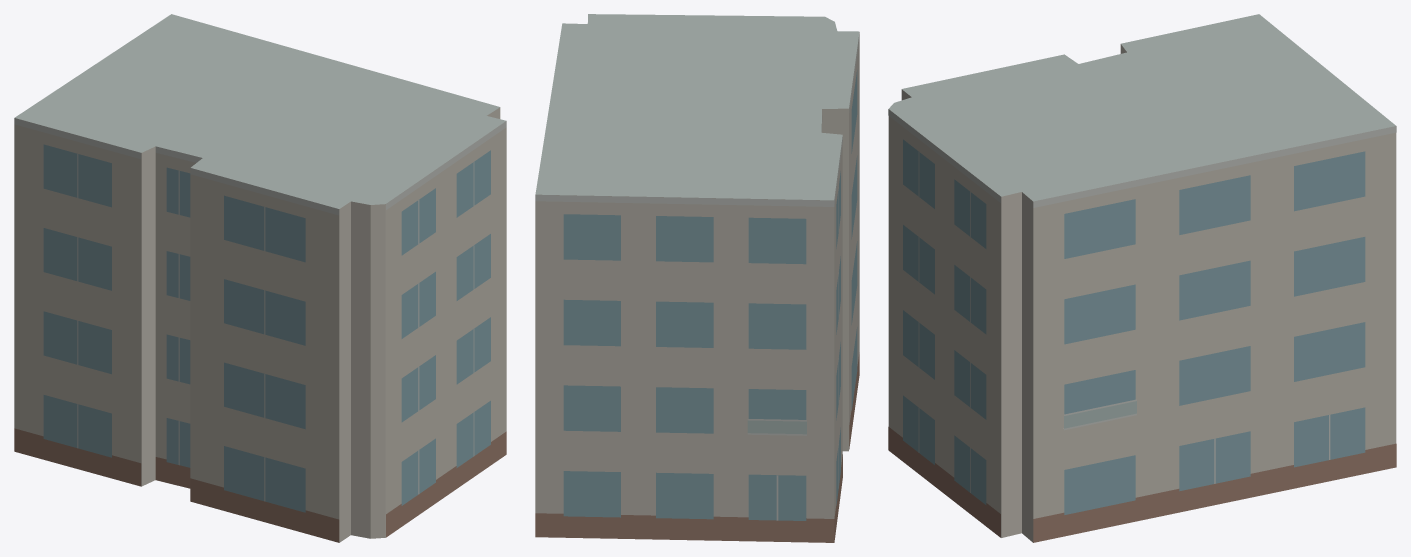
File: survey-upis-33000406.glb
The picture shows the model from 3 angles, left to right: view 1: azimuth 30°, elevation 25°; view 2: azimuth 150°, elevation 25°; view 3: azimuth 270°, elevation 25°; orthographic projection. The views are drawn at different scales.
Parts seen in each view (by area): view 1: survey-upis-33000406.tmp; view 2: survey-upis-33000406.tmp; view 3: survey-upis-33000406.tmp.
Boxes of the visible parts, x1=… form: survey-upis-33000406.tmp: x1=14, y1=14, x2=506, y2=542; survey-upis-33000406.tmp: x1=535, y1=14, x2=859, y2=542; survey-upis-33000406.tmp: x1=888, y1=14, x2=1396, y2=542.
Size of the model in its own units: 14.85 by 12.6 by 17.
